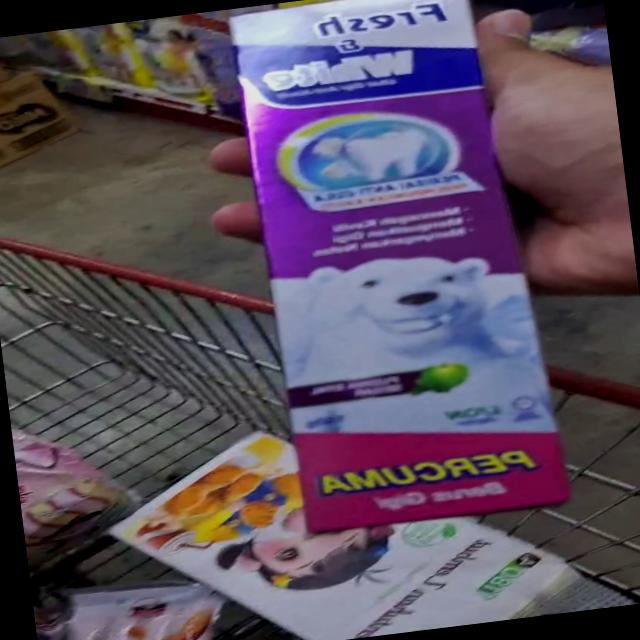Tisu: (278, 511, 626, 640), (96, 425, 296, 601)
Ubat Gigi: (258, 192, 573, 540), (212, 0, 501, 244)
